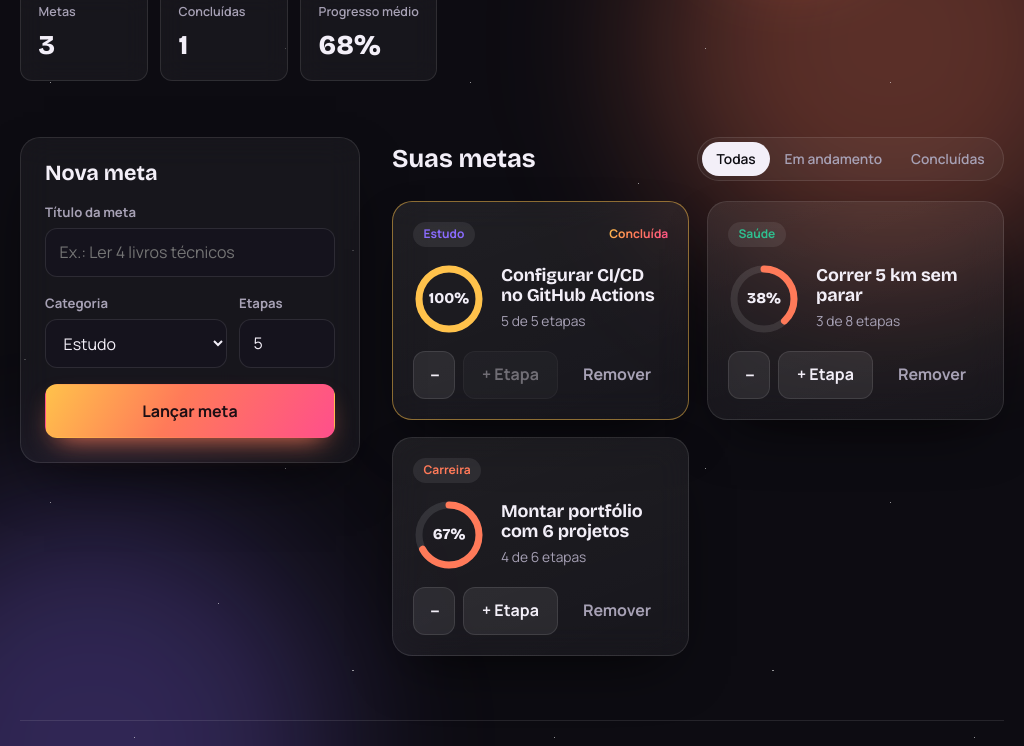
it: App Cometa › remove uma meta e mostra o estado vazio quando não sobra nenhuma
(page scrolled)
Click the button "Remover " below "100" at (617, 375), box left=566, top=351, right=668, bottom=399
(page scrolled)
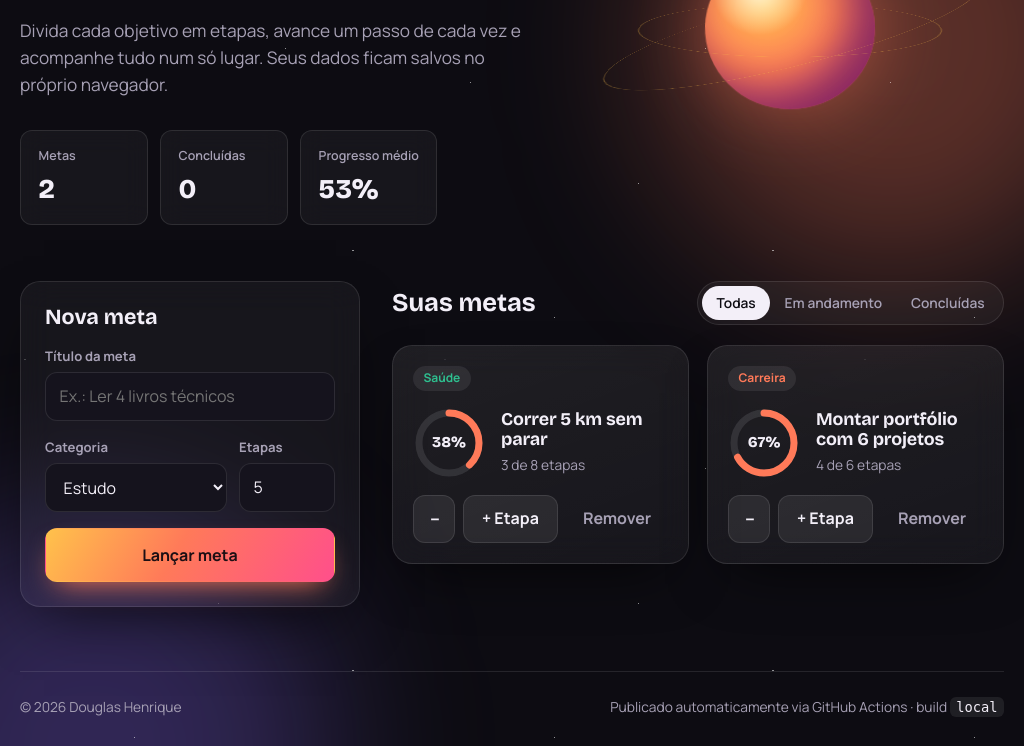
Click the button "Remover " below "38" at (617, 519), box left=566, top=495, right=668, bottom=543
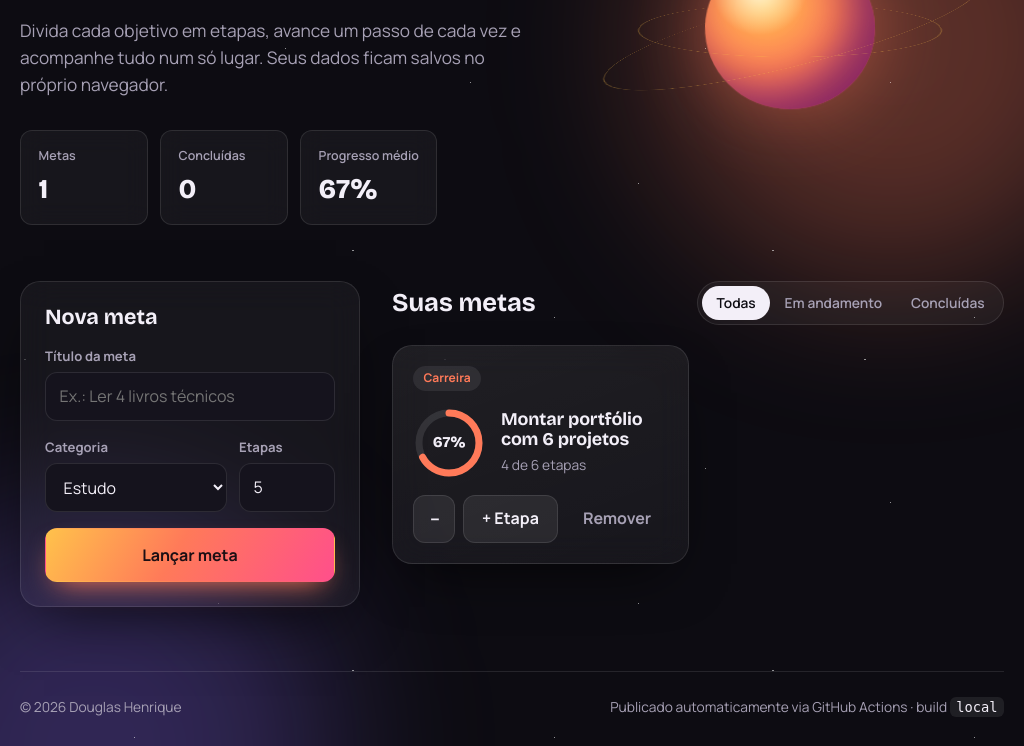
Click the button "Remover " at (617, 519), box left=566, top=495, right=668, bottom=543
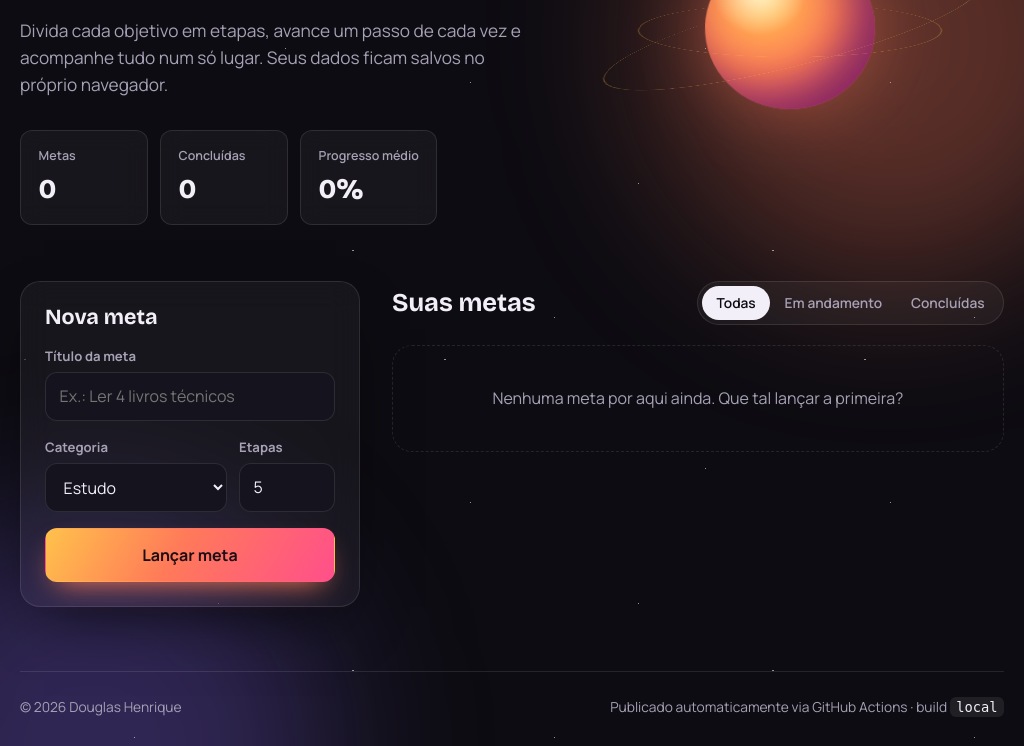
expect the text "Nenhuma meta por aqui ainda. Que tal lançar a primeira?" is shown: met, box left=392, top=345, right=1004, bottom=452
